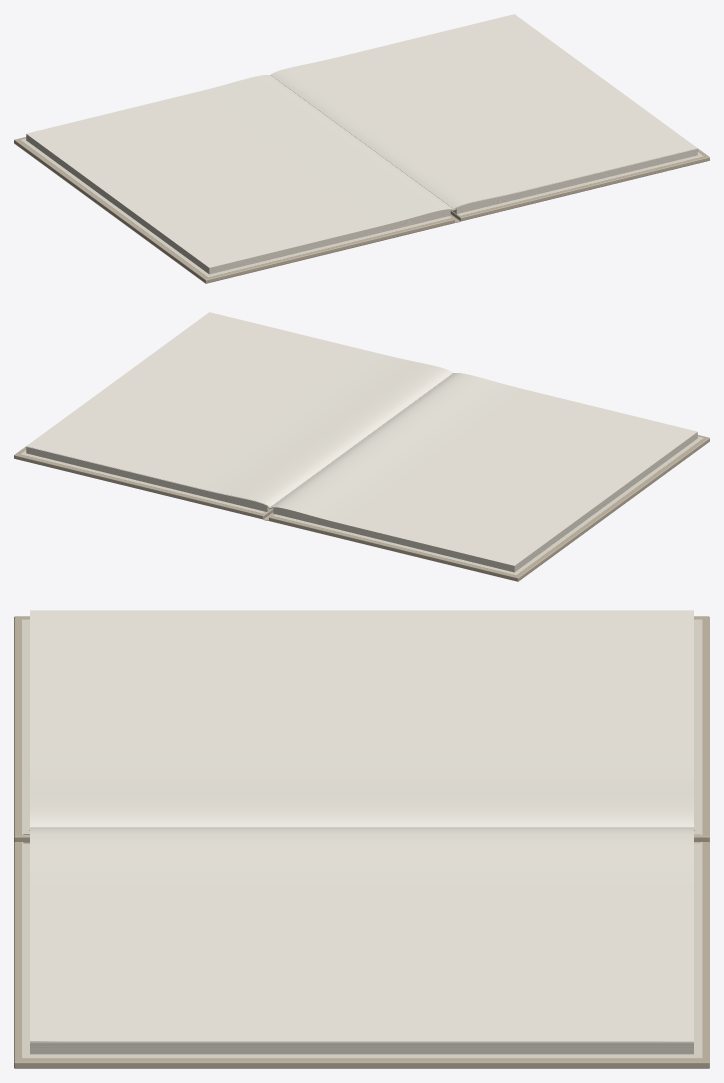
Rendered from portfolio_book.glb.
3 renders of one model, top to bottom at view 1: azimuth 30°, elevation 25°; view 2: azimuth 150°, elevation 25°; view 3: azimuth 270°, elevation 25°, orthographic. The views are drawn at different scales.
Parts seen in each view (by area): view 1: Book_Active_Front, Book_Page_Left, Book_Cover_Left, Book_Stack_Left, Book_Stack_Right, Book_Endpaper_Left, Book_Cover_Right, Book_EdgeLines_Left, Book_Endpaper_Right, Book_EdgeLines_Right; view 2: Book_Active_Front, Book_Page_Left, Book_Cover_Left, Book_Stack_Left, Book_Stack_Right, Book_Endpaper_Left, Book_Cover_Right, Book_EdgeLines_Left, Book_Endpaper_Right, Book_EdgeLines_Right; view 3: Book_Page_Left, Book_Active_Front, Book_Cover_Right, Book_Stack_Right, Book_Endpaper_Right, Book_Endpaper_Left, Book_Cover_Left, Book_EdgeLines_Right.
Boxes of the visible parts, x1,y1,x2,y2 form: Book_Active_Front: [270, 14, 697, 208]; Book_Page_Left: [26, 75, 452, 267]; Book_Cover_Left: [14, 137, 454, 283]; Book_Stack_Left: [26, 134, 450, 274]; Book_Stack_Right: [452, 148, 697, 213]; Book_Endpaper_Left: [20, 138, 451, 277]; Book_Cover_Right: [450, 148, 709, 221]; Book_EdgeLines_Left: [26, 135, 449, 273]; Book_Endpaper_Right: [457, 152, 703, 215]; Book_EdgeLines_Right: [458, 149, 697, 211]; Book_Active_Front: [26, 312, 453, 506]; Book_Page_Left: [271, 373, 697, 565]; Book_Cover_Left: [269, 435, 709, 581]; Book_Stack_Left: [273, 432, 697, 572]; Book_Stack_Right: [26, 446, 271, 511]; Book_Endpaper_Left: [272, 436, 703, 575]; Book_Cover_Right: [14, 446, 273, 519]; Book_EdgeLines_Left: [274, 433, 697, 571]; Book_Endpaper_Right: [20, 450, 266, 513]; Book_EdgeLines_Right: [26, 447, 265, 509]; Book_Page_Left: [30, 610, 693, 827]; Book_Active_Front: [30, 827, 693, 1041]; Book_Cover_Right: [14, 842, 709, 1068]; Book_Stack_Right: [30, 1042, 693, 1054]; Book_Endpaper_Right: [21, 842, 702, 1058]; Book_Endpaper_Left: [21, 619, 702, 835]; Book_Cover_Left: [14, 616, 709, 842]; Book_EdgeLines_Right: [30, 1044, 693, 1052].
Bounding box in the file's own units: 2.07 × 0.0518 × 1.36.
